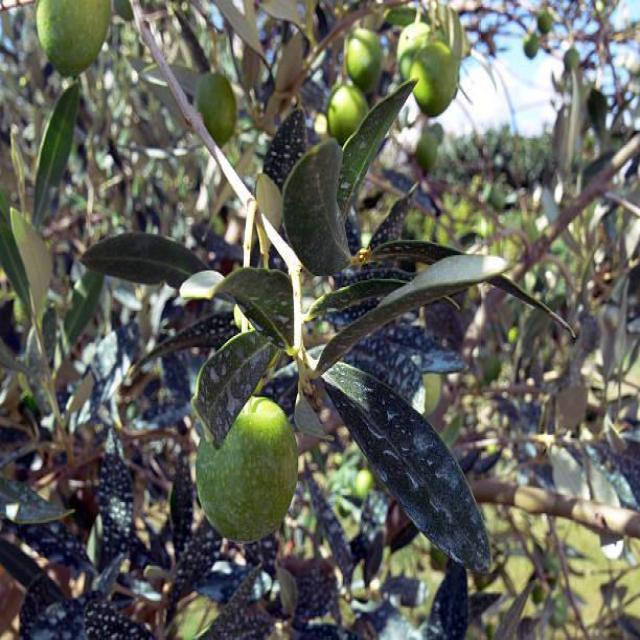Psyllid: (320, 362, 490, 568), (192, 332, 264, 448)
